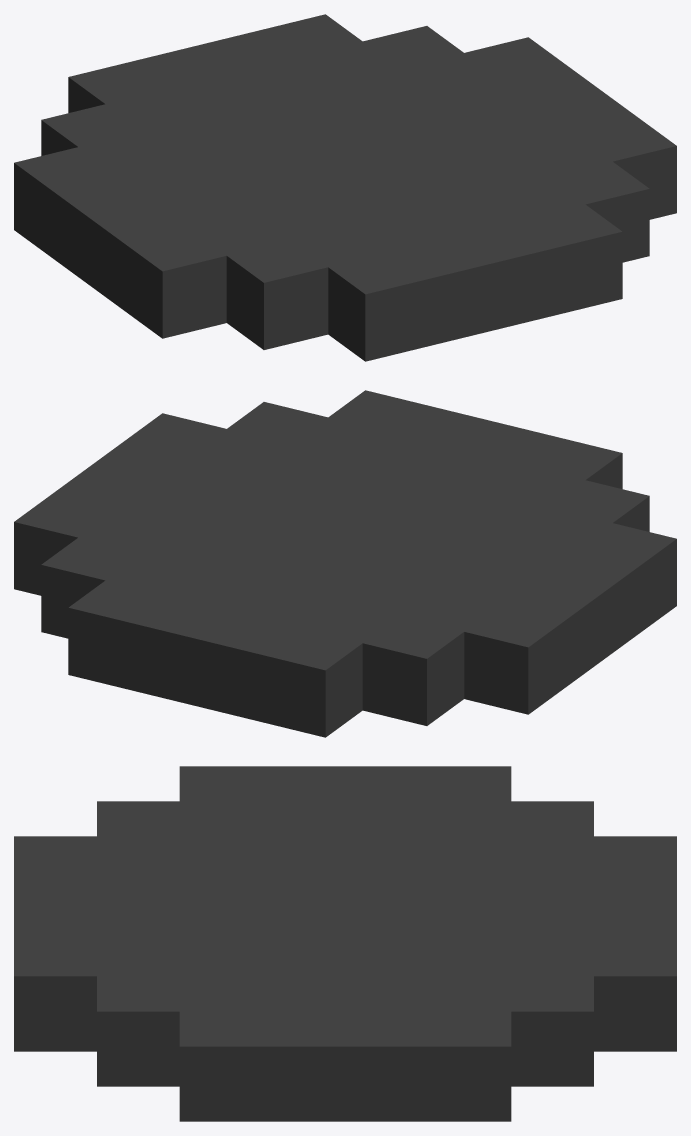
Rendered from TowerStand.obj.
3 views of the same model, one above another, from view 1: azimuth 30°, elevation 25°; view 2: azimuth 150°, elevation 25°; view 3: azimuth 270°, elevation 25° (orthographic). The views are drawn at different scales.
Size of the model in its own units: 0.8 by 0.1 by 0.8.
1 material, 1 textured.
